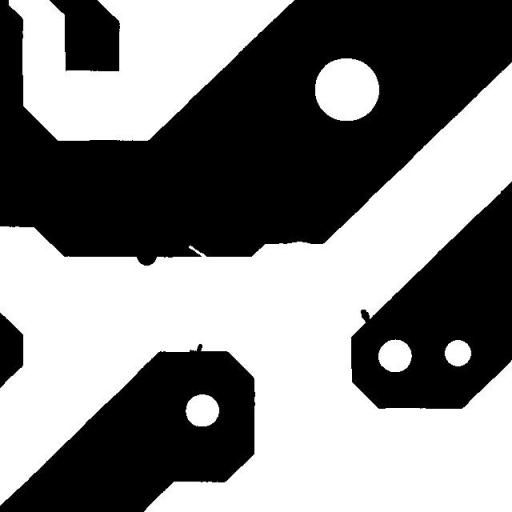mousebite: (181, 238, 214, 266)
pin-hole: (437, 332, 478, 374)
spur: (129, 238, 164, 272), (182, 336, 210, 365), (353, 302, 379, 330)
